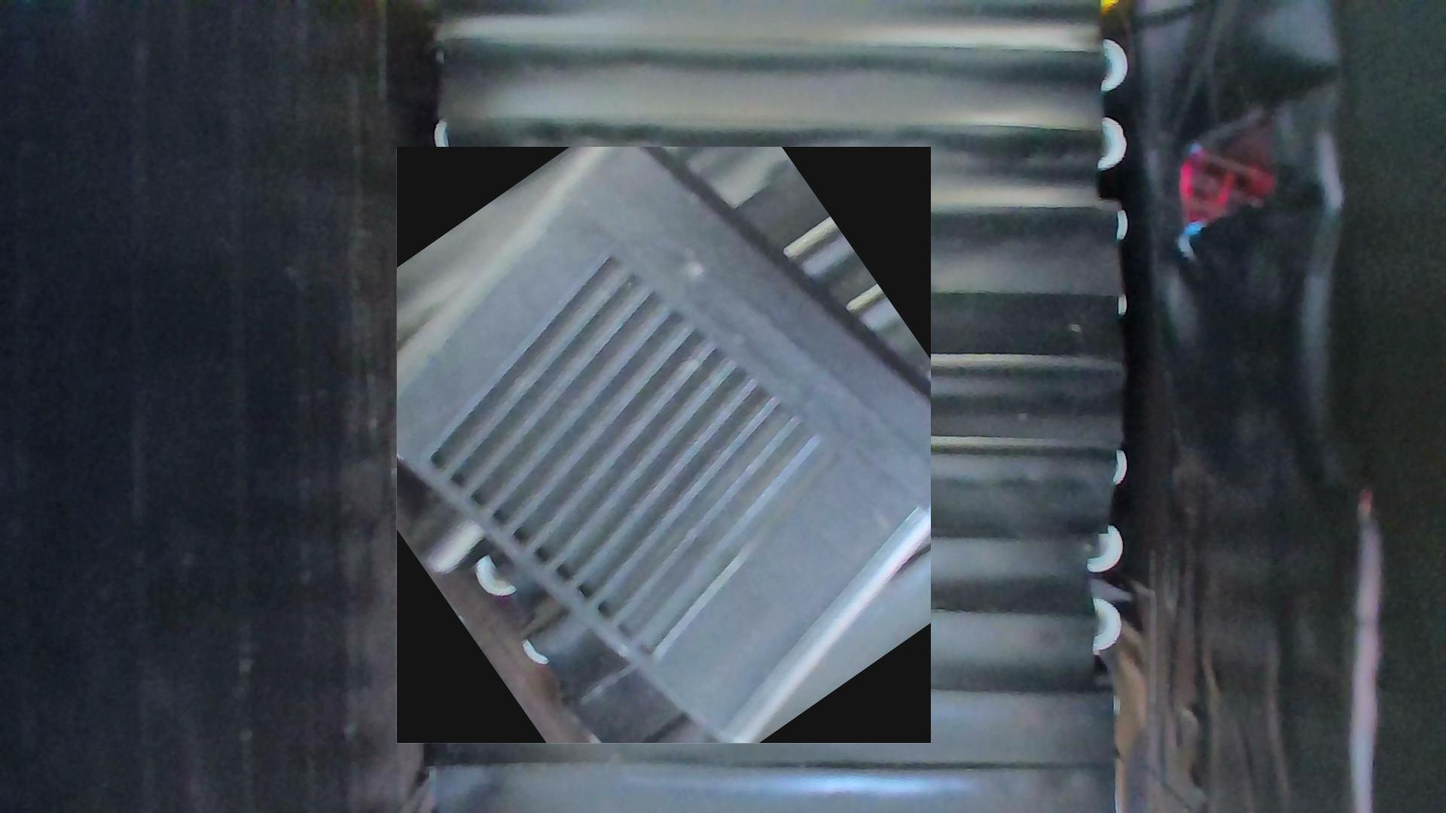motor: (395, 147, 930, 744)
